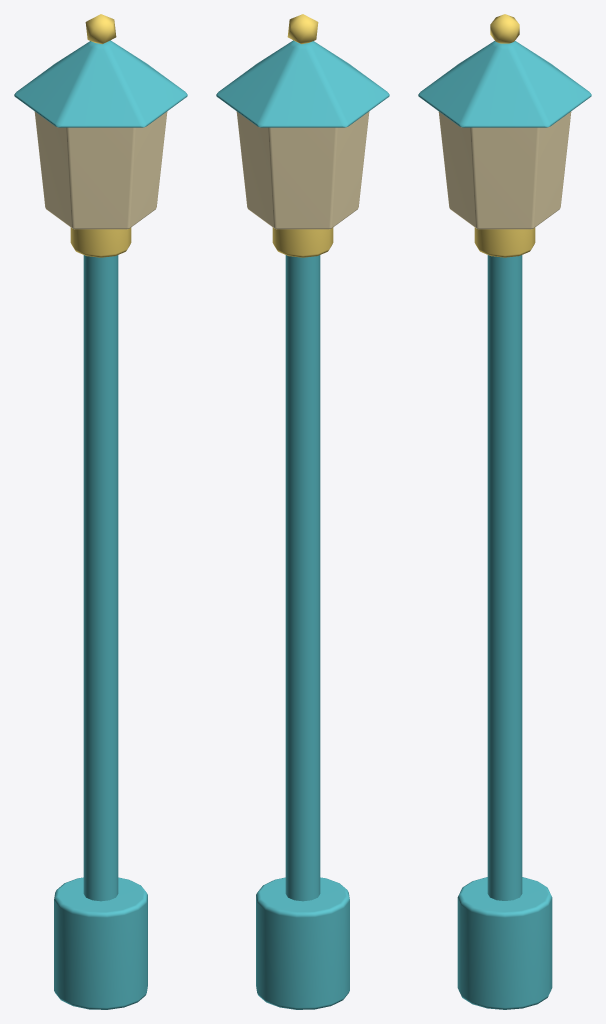
File: lamp_post.fbx
3 renders of one model, left to right at view 1: azimuth 30°, elevation 25°; view 2: azimuth 150°, elevation 25°; view 3: azimuth 270°, elevation 25°, orthographic.
Visible parts, largest first — view 1: Visual; view 2: Visual; view 3: Visual.
Part boxes in pixels (x1=…): Visual: x1=14, y1=14, x2=187, y2=1009; Visual: x1=216, y1=14, x2=389, y2=1009; Visual: x1=418, y1=14, x2=591, y2=1009.
Size of what is drawn, in the model's own units: 70.69 by 500 by 80.54.
